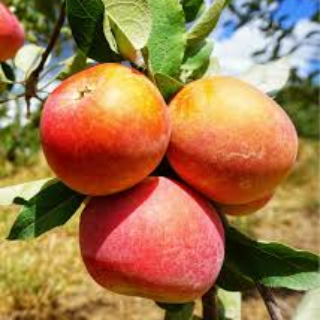tao: (76, 172, 232, 310), (165, 71, 305, 209), (37, 57, 173, 199)
